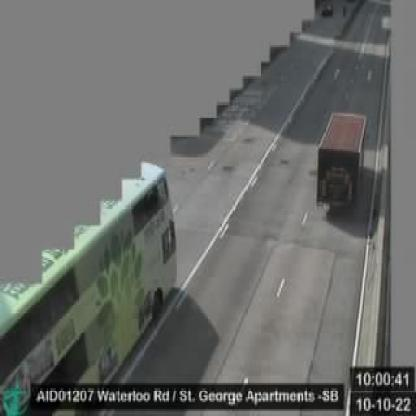Bus: (0, 161, 178, 411)
Truck: (315, 112, 366, 214)
